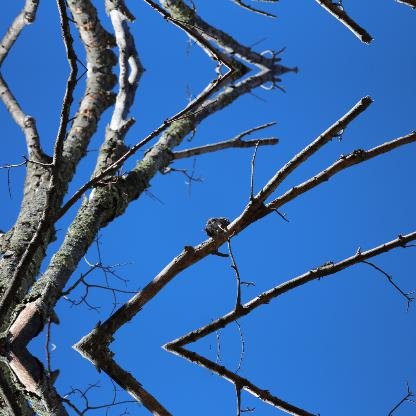Bird: (201, 216, 229, 248)
